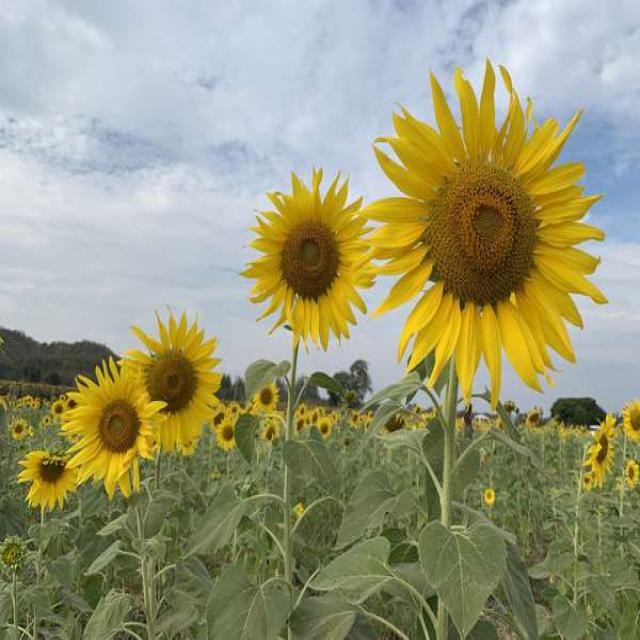sunflower: (364, 52, 613, 412), (239, 163, 379, 359), (63, 355, 167, 504), (124, 300, 222, 447), (15, 446, 84, 511), (582, 410, 617, 488), (214, 414, 241, 456), (250, 378, 277, 414), (256, 414, 283, 448), (619, 404, 640, 445), (623, 458, 640, 491), (11, 420, 28, 440), (317, 419, 332, 441), (52, 401, 66, 421)
